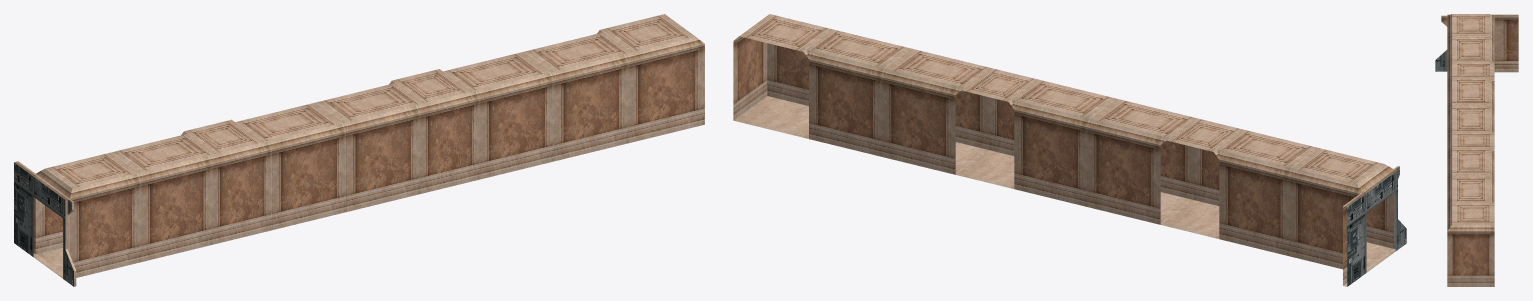
Rendered from thm_nboo_thed_emp_retreat_r8_hall3_mesh_r8.fbx.
3 renders of one model, left to right at view 1: azimuth 30°, elevation 25°; view 2: azimuth 150°, elevation 25°; view 3: azimuth 270°, elevation 25°, orthographic. The views are drawn at different scales.
Parts seen in each view (by area): view 1: mesh_node; view 2: mesh_node; view 3: mesh_node.
Part boxes in pixels (x1,y1,x2,y2): mesh_node: [14, 14, 704, 286]; mesh_node: [733, 14, 1406, 286]; mesh_node: [1435, 14, 1518, 286].
Bounding box in the file's own units: 43.06 × 5.6 × 7.
